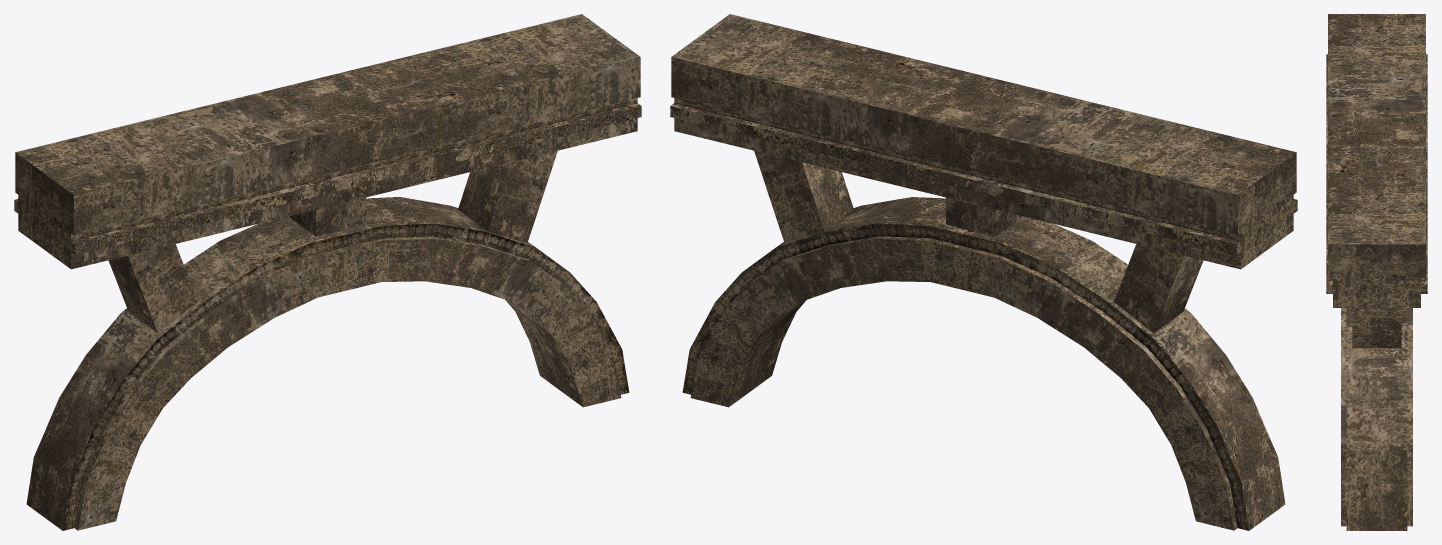
File: materials_5_arch_9.fbx
3 views of the same model, side by side, from view 1: azimuth 30°, elevation 25°; view 2: azimuth 150°, elevation 25°; view 3: azimuth 270°, elevation 25° (orthographic). The views are drawn at different scales.
Parts seen in each view (by area): view 1: materials_5_arch_9; view 2: materials_5_arch_9; view 3: materials_5_arch_9.
Boxes of the visible parts, x1,y1,x2,y2 form: materials_5_arch_9: (14, 14, 641, 530); materials_5_arch_9: (670, 14, 1297, 530); materials_5_arch_9: (1326, 14, 1427, 530).
Size of the model in its own units: 100 by 58.09 by 18.58.
